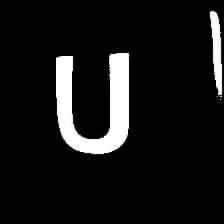LTR_U: (50, 35, 133, 158)
